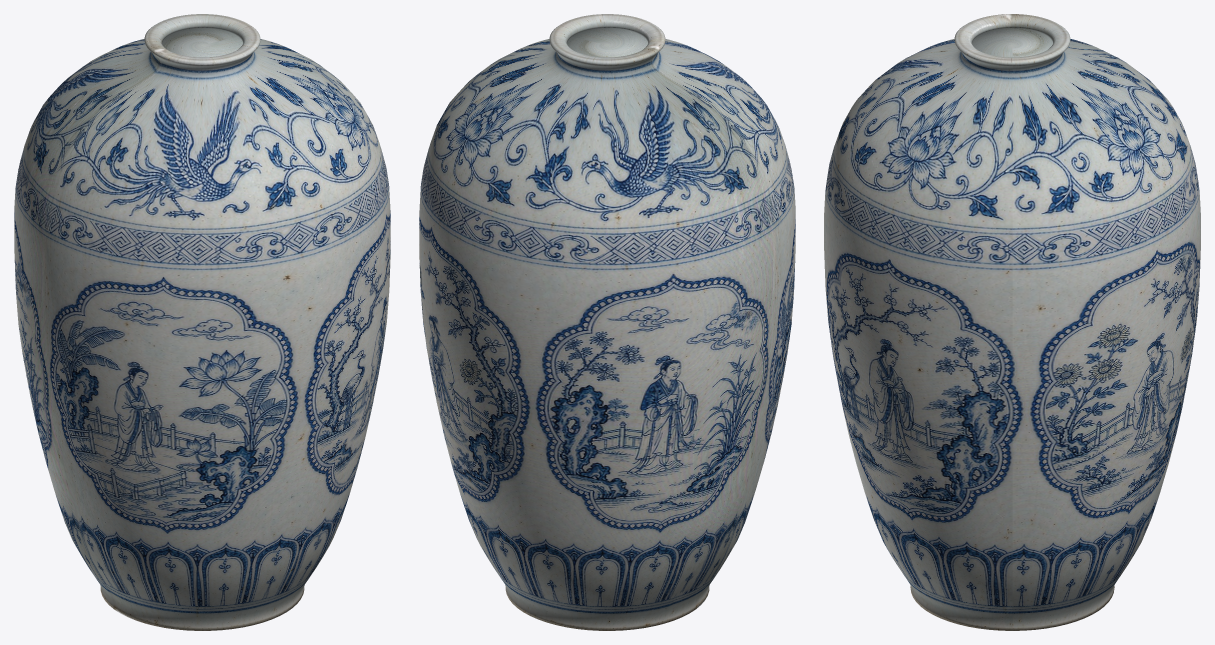
The model's file is yuan_qinghua_siai_meiping.glb.
The picture shows the model from 3 angles, left to right: view 1: azimuth 30°, elevation 25°; view 2: azimuth 150°, elevation 25°; view 3: azimuth 270°, elevation 25°; orthographic projection.
Parts seen in each view (by area): view 1: geometry_0; view 2: geometry_0; view 3: geometry_0.
Part boxes in pixels (left/top/right/bottom): geometry_0: left=14, top=14, right=390, bottom=630; geometry_0: left=419, top=14, right=795, bottom=630; geometry_0: left=824, top=14, right=1200, bottom=630.
Bounding box in the file's own units: 0.2401 × 0.387 × 0.2401.
1 material, 1 textured.
